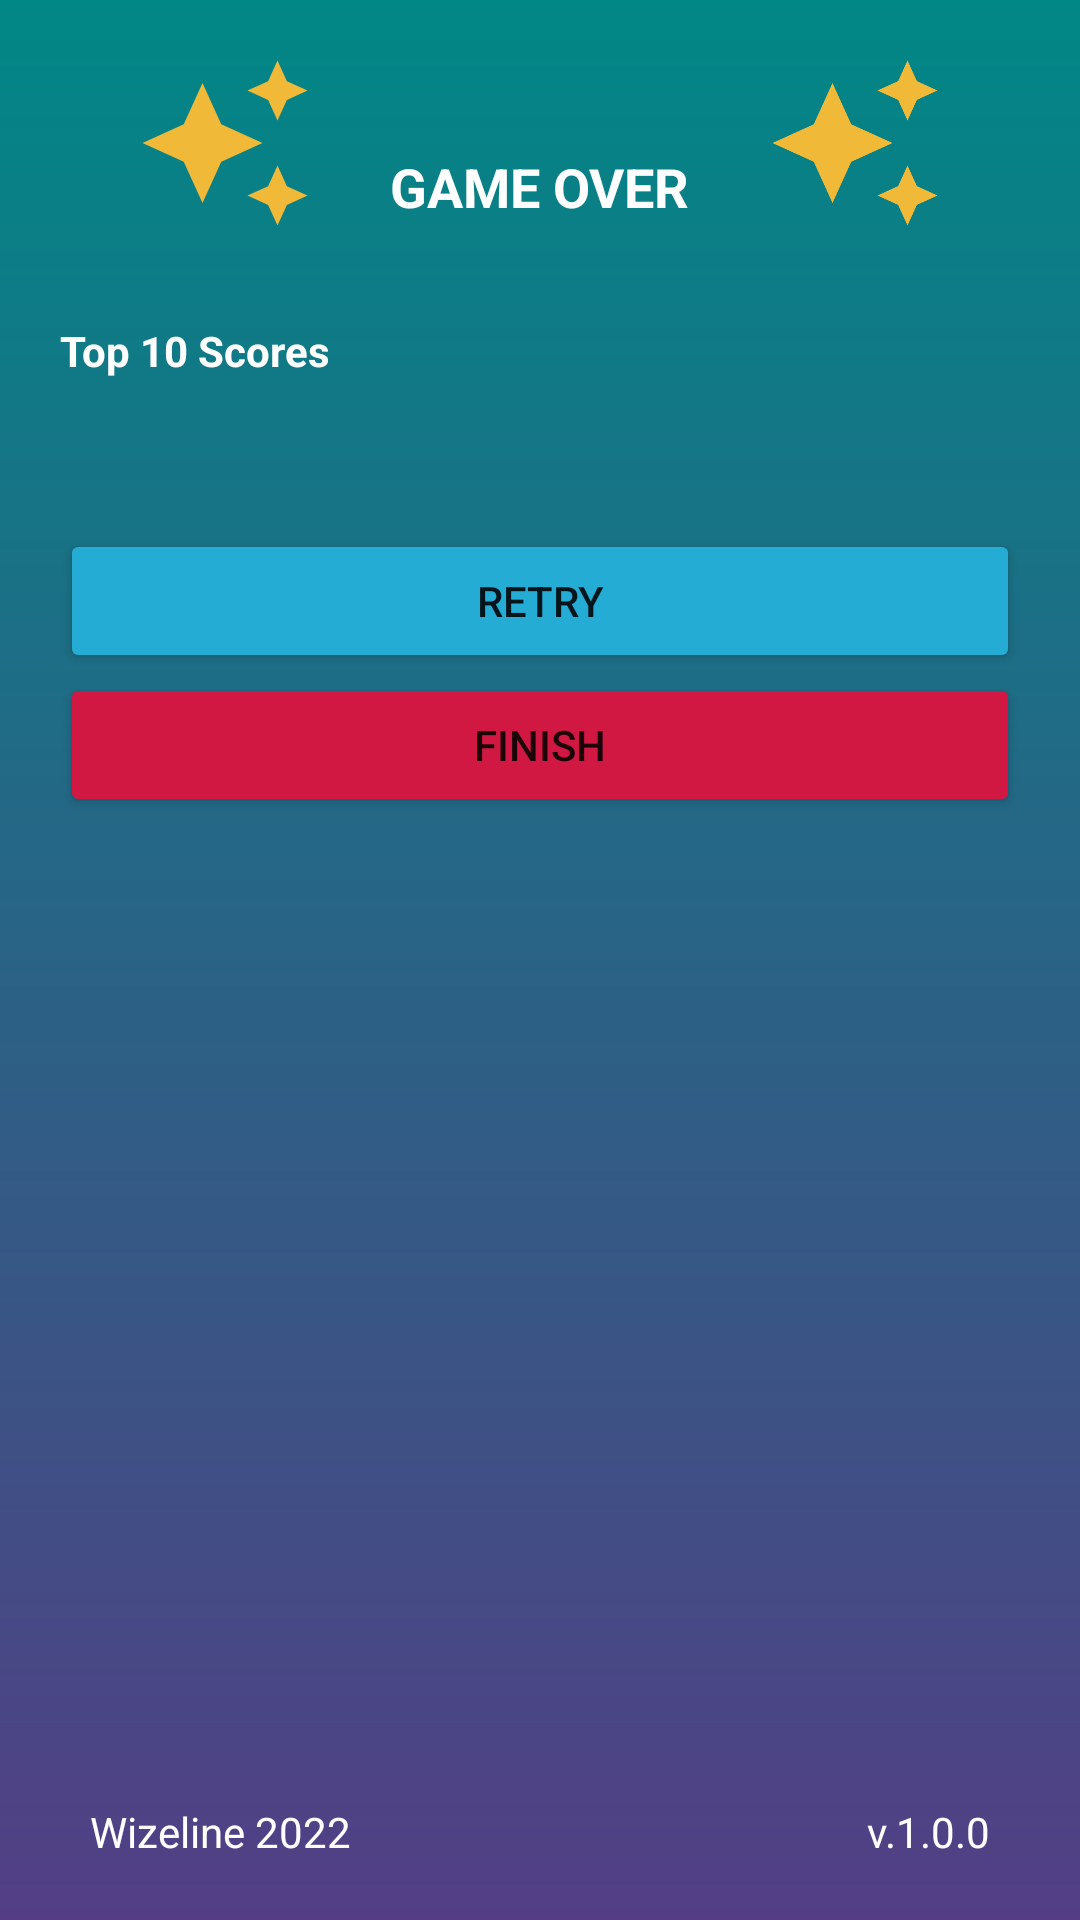

Screen size 1080 × 1920. Icon name, then its box in pixels as [left=x1, top=y1, right=x2, bottom=y2]:
auto awesome: [left=143, top=60, right=308, bottom=226], [left=773, top=60, right=938, bottom=226]
